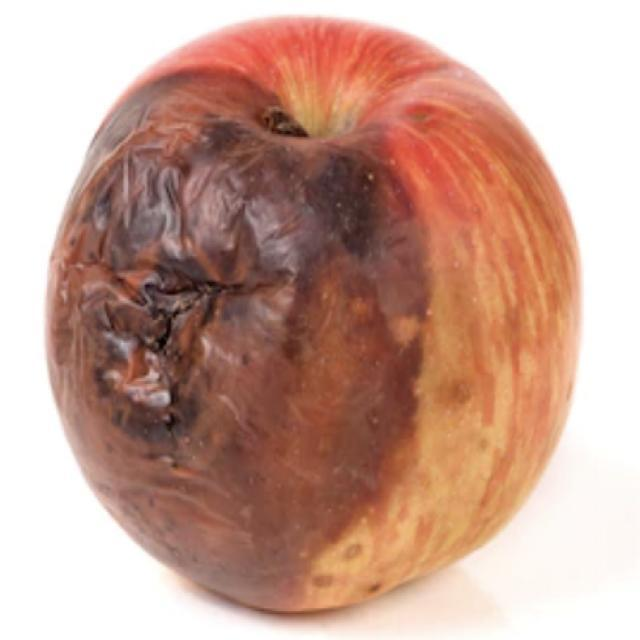Rotten: (52, 11, 573, 622)
